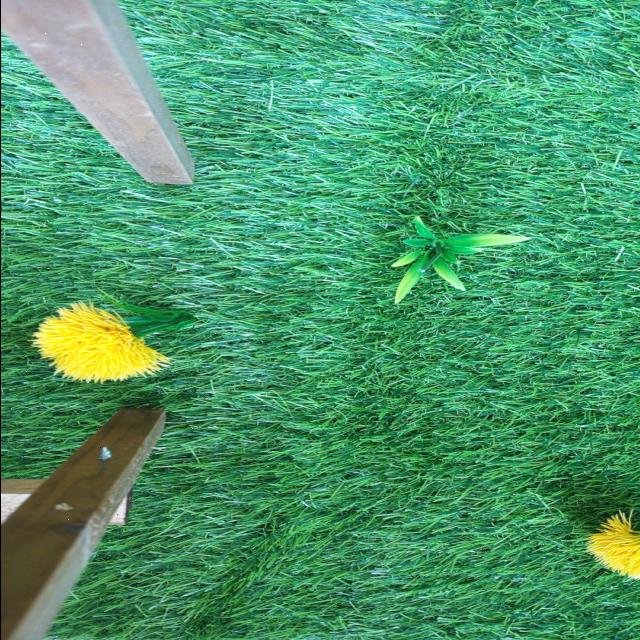base: (390, 222, 530, 304), (97, 287, 199, 335)
flower: (33, 301, 169, 384), (586, 513, 640, 581)
